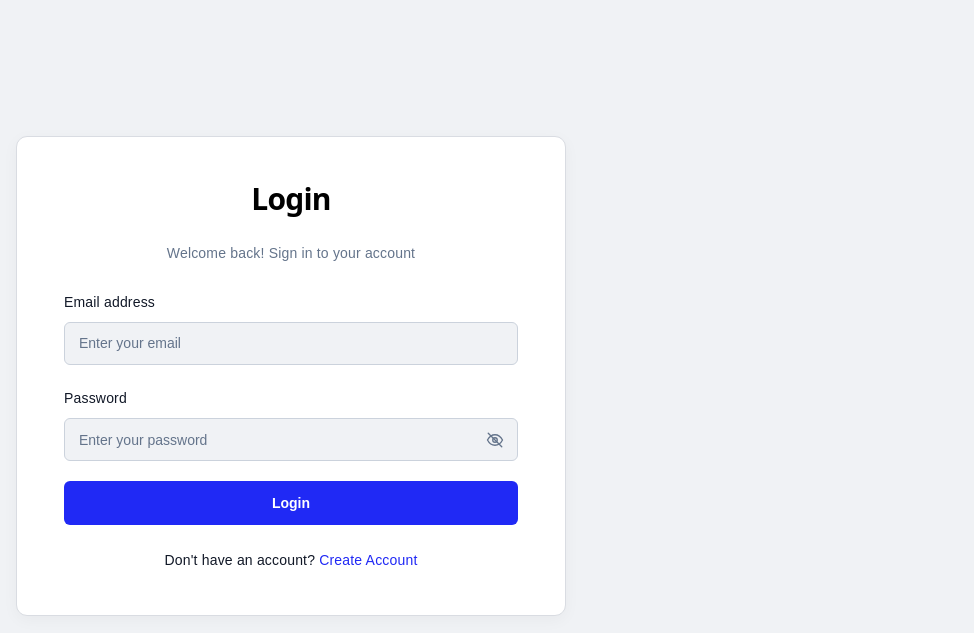
Test case: Login component › displays the backend message for an unregistered email
Type "unknown@example.com" into the field labelled "Email address" at {"x": 291, "y": 344}, box x1=64 y1=322 x2=518 y2=365
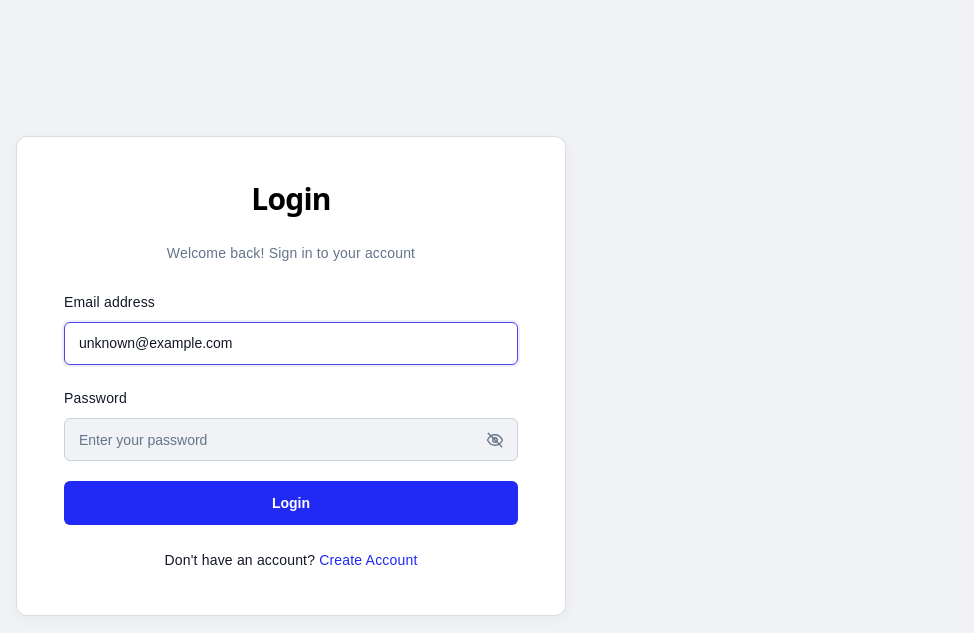
Type "Password123!" into the password field labelled "Password" at {"x": 291, "y": 440}, box x1=64 y1=418 x2=518 y2=461
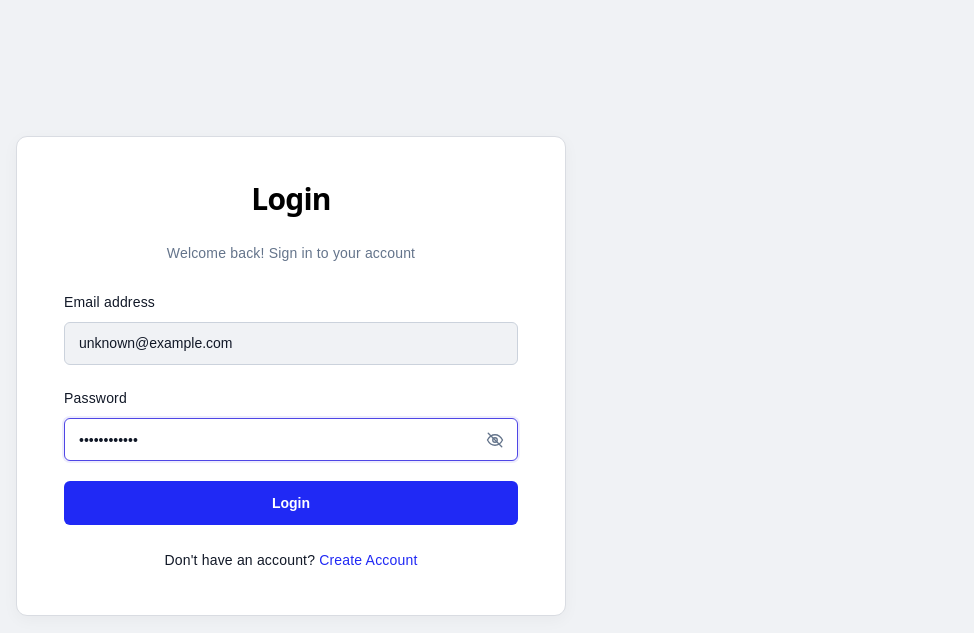
Click the button "Login" at {"x": 291, "y": 503}, box x1=64 y1=481 x2=518 y2=525
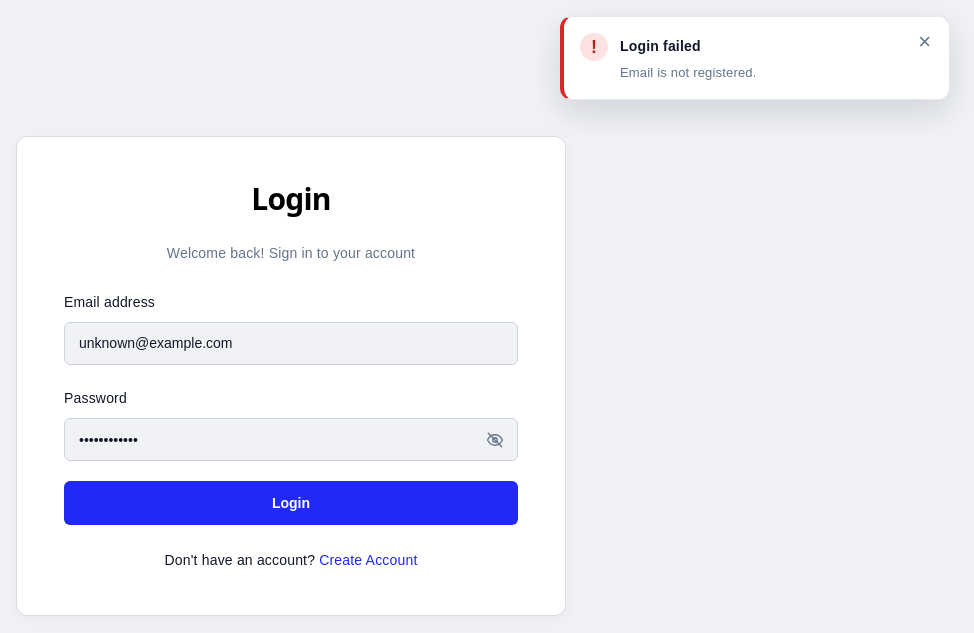
Expected: the text "Email is not registered." is shown, x1=620 y1=65 x2=756 y2=80
Expected: the text "Login failed" is shown, x1=620 y1=38 x2=701 y2=54
